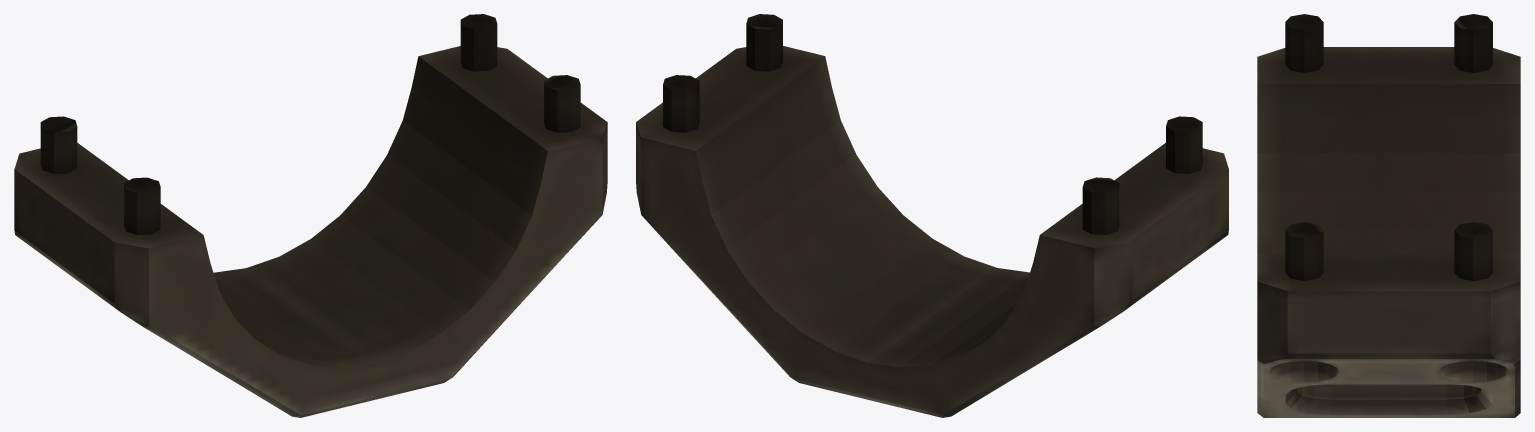
3 renders of one model, left to right at view 1: azimuth 30°, elevation 25°; view 2: azimuth 150°, elevation 25°; view 3: azimuth 270°, elevation 25°, orthographic.
Parts seen in each view (by area): view 1: TW_618ba91477b82356f91ae0e8_PZ_Import; view 2: TW_618ba91477b82356f91ae0e8_PZ_Import; view 3: TW_618ba91477b82356f91ae0e8_PZ_Import.
Part boxes in pixels (bbox=[...]): TW_618ba91477b82356f91ae0e8_PZ_Import: bbox=[14, 14, 607, 417]; TW_618ba91477b82356f91ae0e8_PZ_Import: bbox=[636, 14, 1228, 417]; TW_618ba91477b82356f91ae0e8_PZ_Import: bbox=[1257, 14, 1520, 417].
Size of the model in its own units: 0.0252 by 0.0115 by 0.0123.
1 material, 1 textured.
